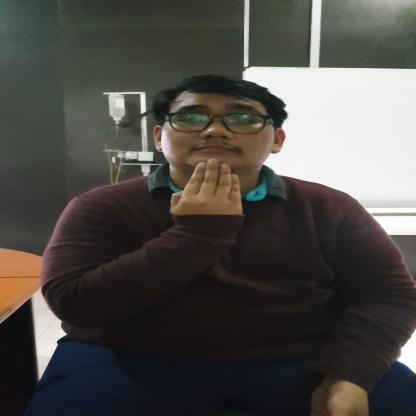Selamat-Terimakasih: (164, 152, 254, 228)
